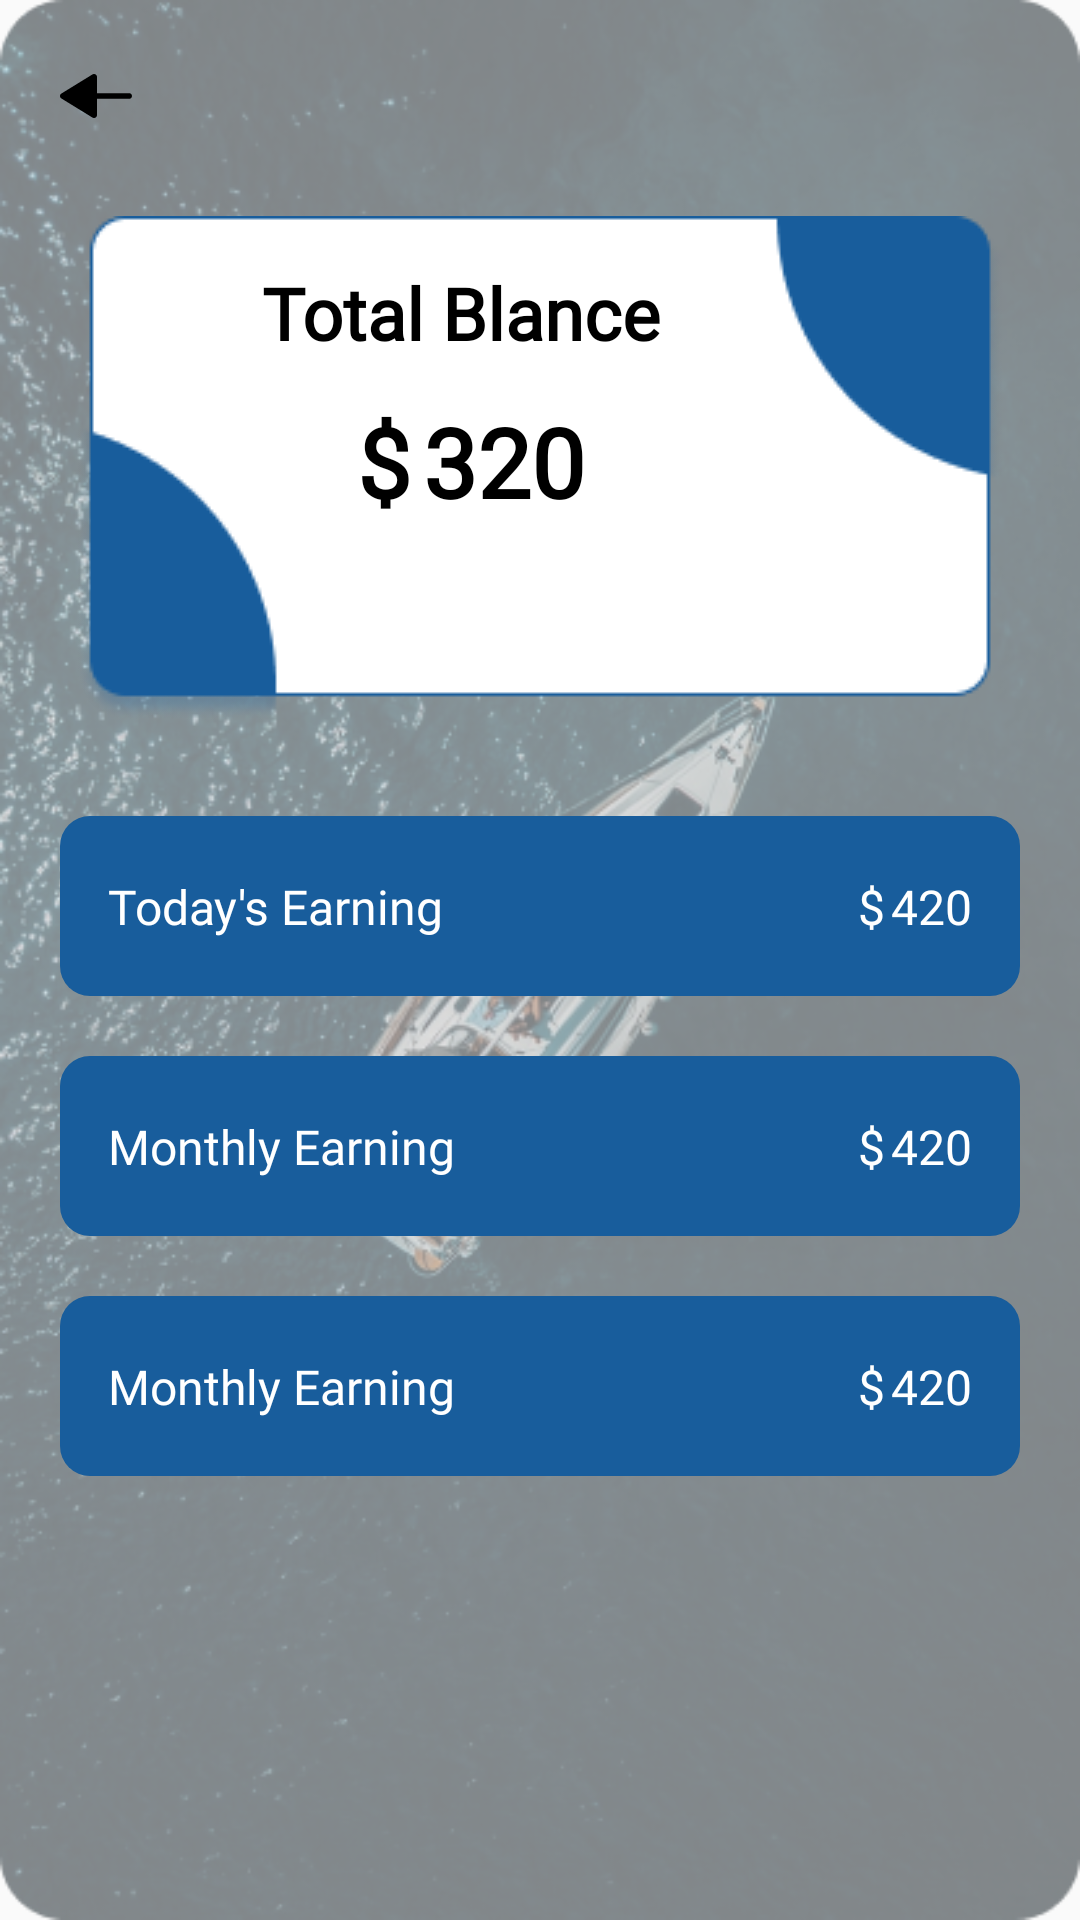

Where to tap for icons on this 1080 × 1920 app screen, as point (x, y):
backarrowblack: point (96, 109)
